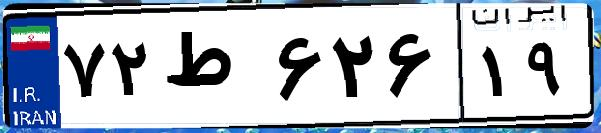1: (475, 38, 525, 113)
2: (330, 28, 385, 110), (110, 28, 158, 98)
6: (270, 28, 330, 110), (385, 28, 445, 110)
7: (57, 26, 110, 100)
9: (525, 38, 570, 115)
ط: (158, 20, 270, 120)
